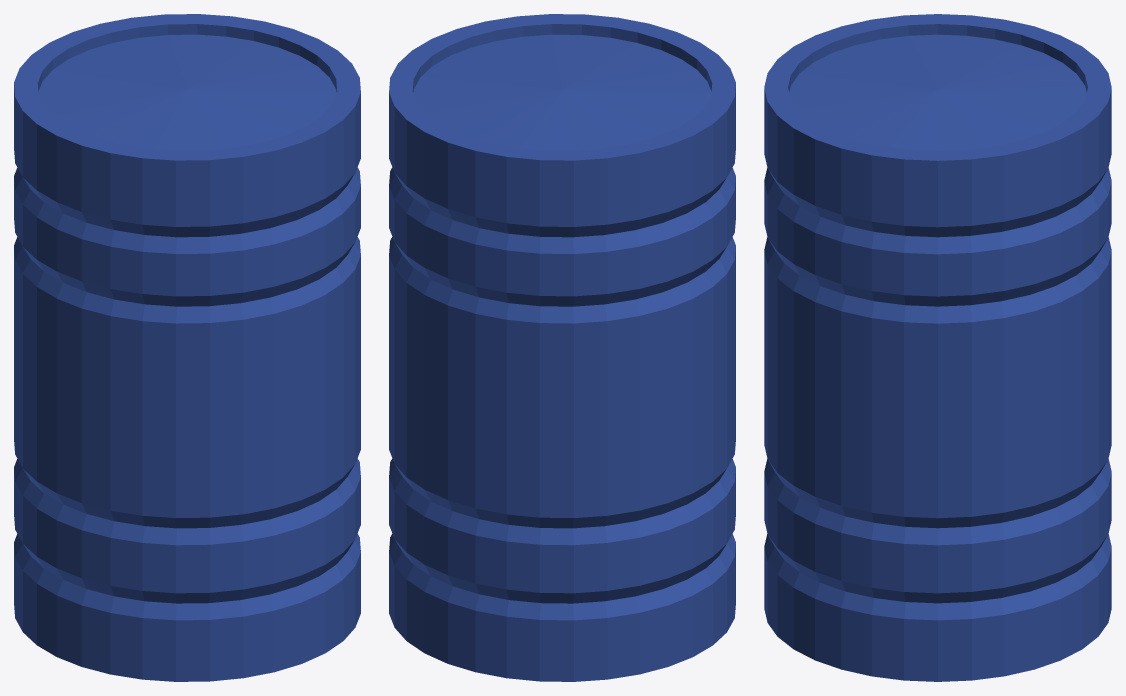
The model's file is Barril.fbx.
3 views of the same model, side by side, from view 1: azimuth 30°, elevation 25°; view 2: azimuth 150°, elevation 25°; view 3: azimuth 270°, elevation 25° (orthographic).
Parts seen in each view (by area): view 1: Cylinder; view 2: Cylinder; view 3: Cylinder.
Part boxes in pixels (x1=…): Cylinder: x1=14, y1=14, x2=360, y2=681; Cylinder: x1=389, y1=14, x2=735, y2=681; Cylinder: x1=764, y1=14, x2=1111, y2=681.
Size of the model in its own units: 200 by 334 by 200.
